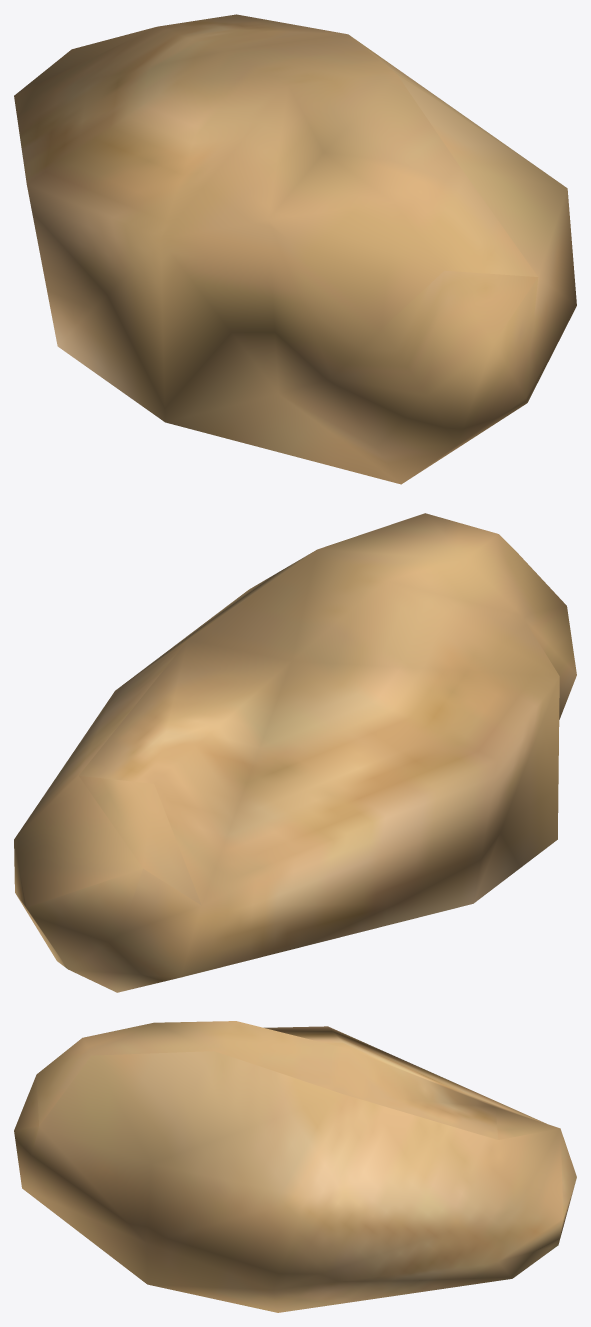
The model's file is Robot01.LeftForeArm1.fbx.
3 renders of one model, top to bottom at view 1: azimuth 30°, elevation 25°; view 2: azimuth 150°, elevation 25°; view 3: azimuth 270°, elevation 25°, orthographic. The views are drawn at different scales.
Parts seen in each view (by area): view 1: mesh_1114.001; view 2: mesh_1114.001; view 3: mesh_1114.001.
Part boxes in pixels (<box>): mesh_1114.001: <box>14,14,576,484</box>; mesh_1114.001: <box>14,513,576,992</box>; mesh_1114.001: <box>14,1021,576,1312</box>.
Size of the model in its own units: 24.97 by 19.06 by 39.47.
